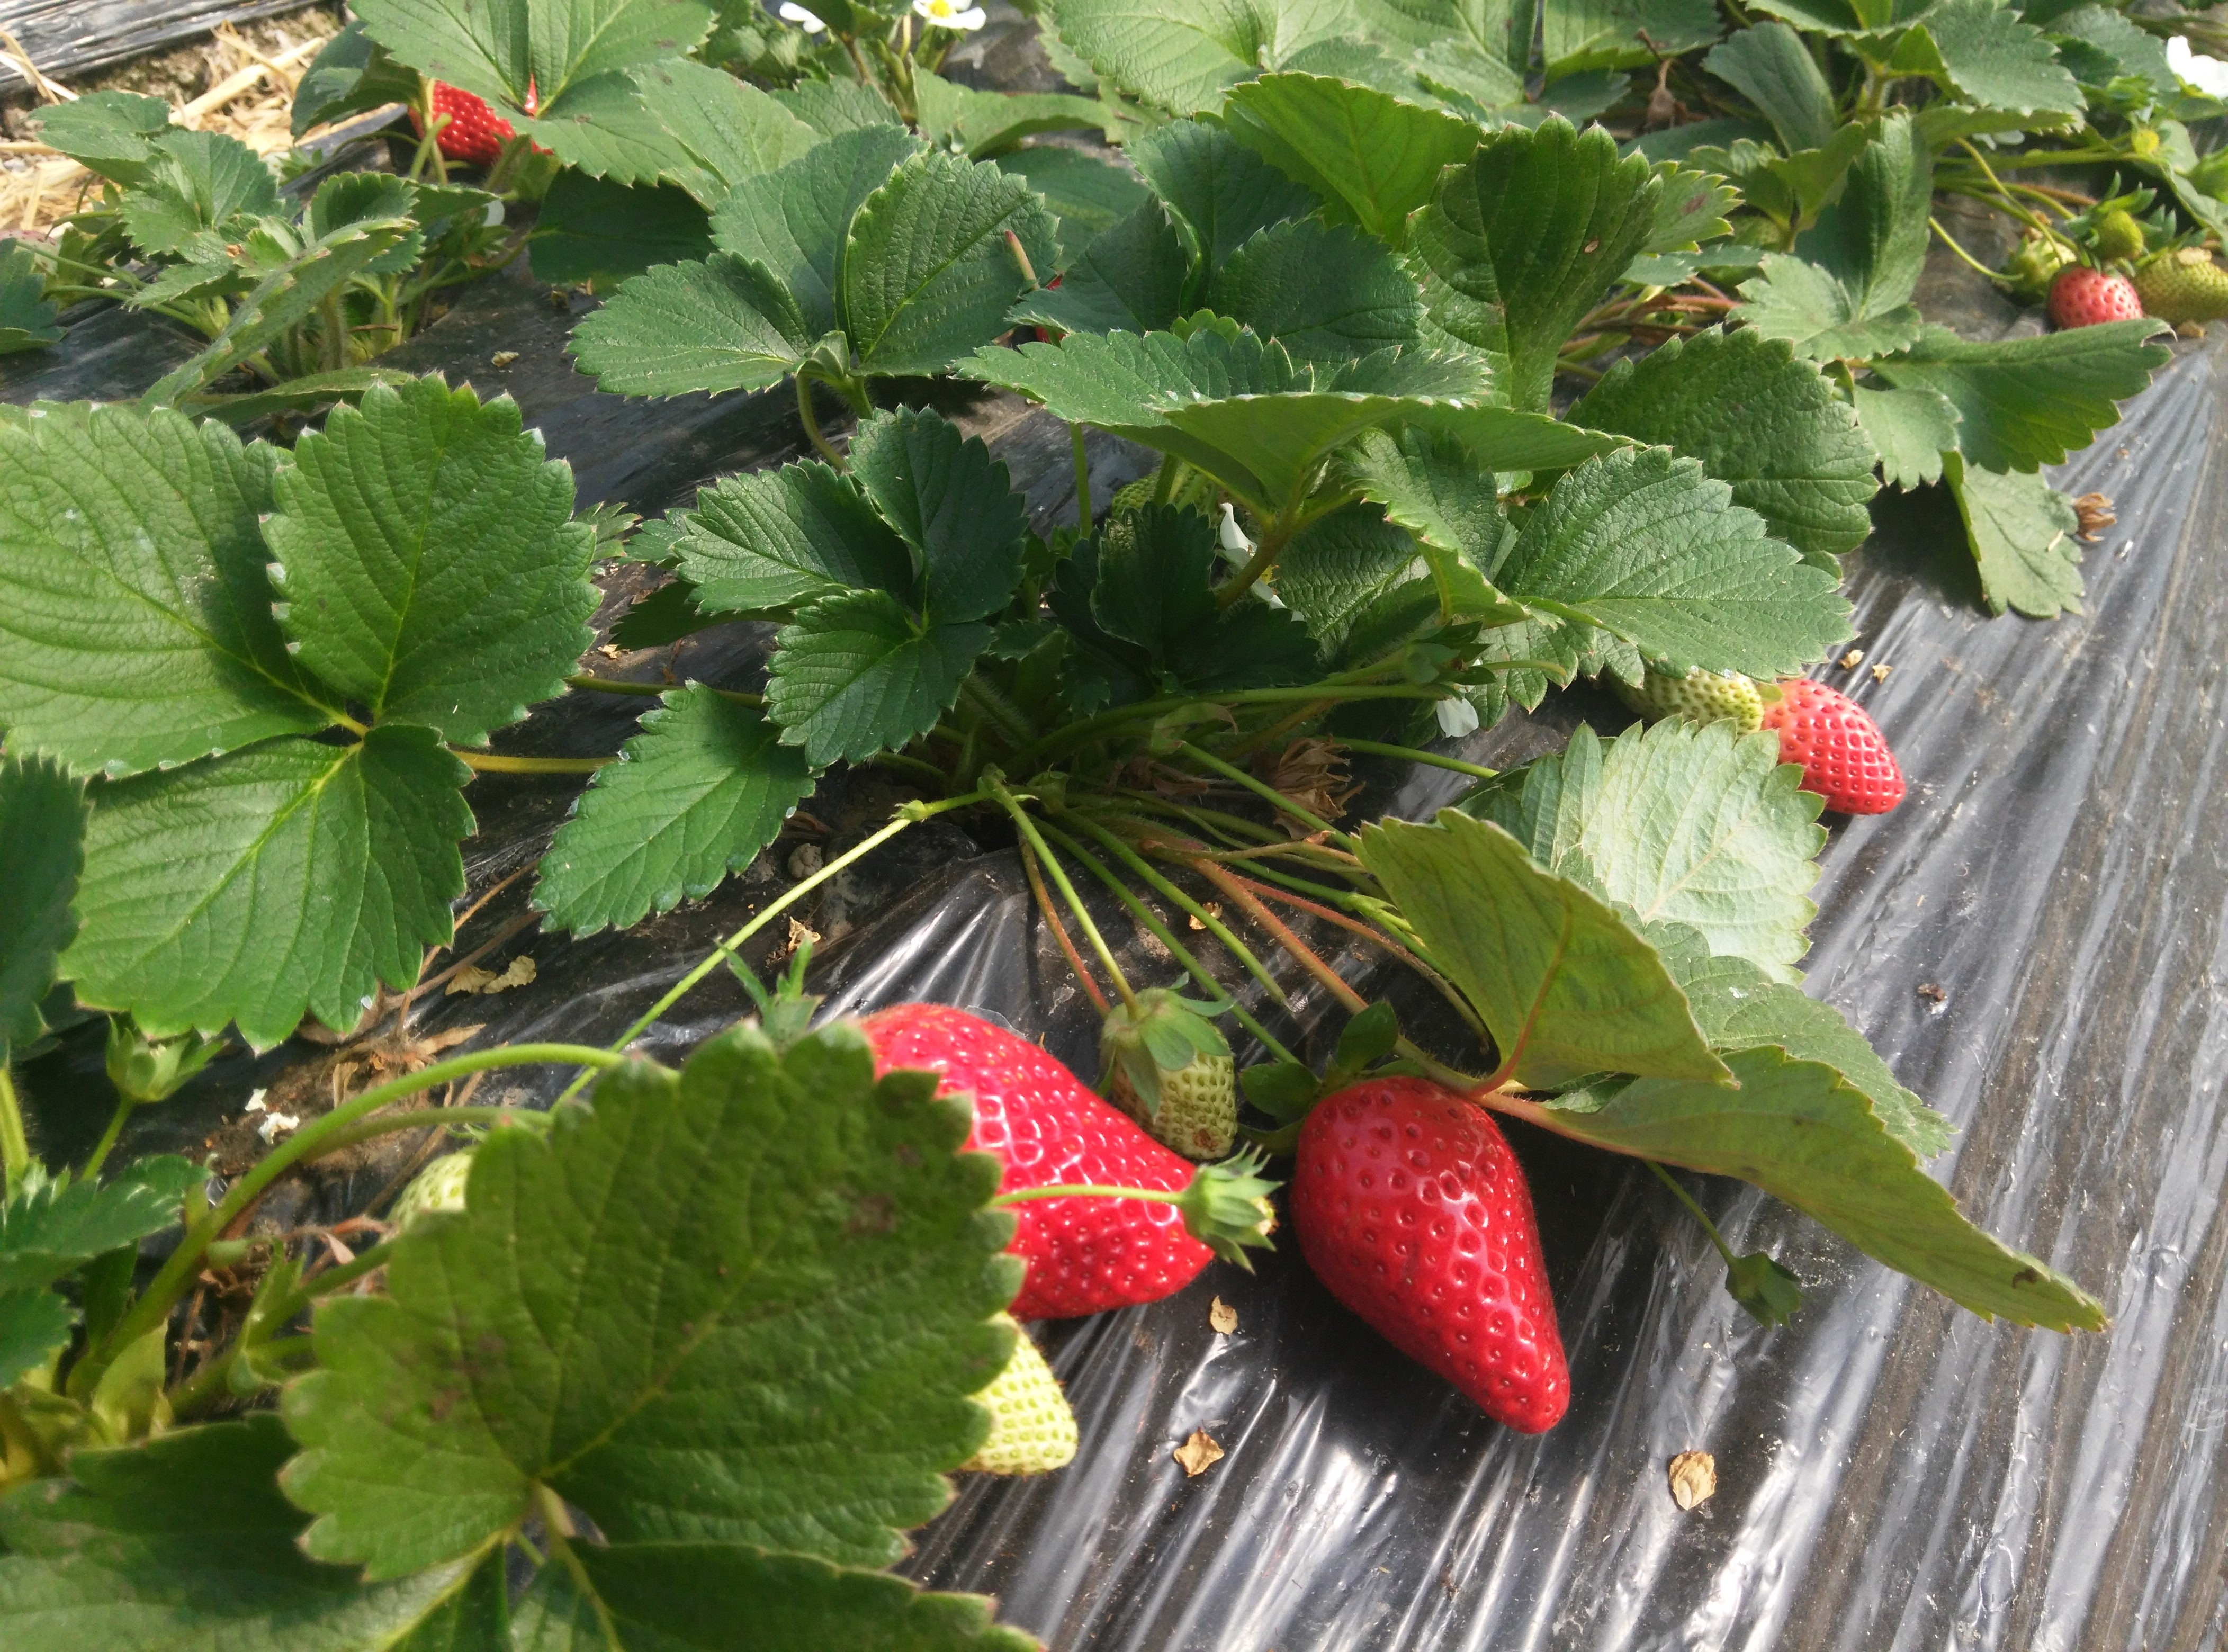StrawberryCone: (758, 973, 1230, 1307), (1282, 1060, 1609, 1447)
StrawberryIrremovable: (1079, 956, 1260, 1164), (897, 1319, 1107, 1475), (1754, 675, 1902, 823), (1621, 633, 1768, 750), (359, 1144, 505, 1258), (2049, 246, 2164, 347), (2086, 186, 2166, 253)
StrawberryOther: (380, 57, 581, 193)
StrawberryRemovable: (770, 987, 1220, 1303), (1298, 1069, 1596, 1440), (387, 61, 578, 186)
